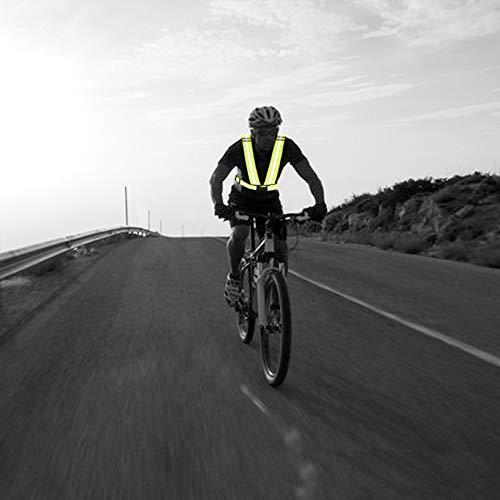Vest: (239, 134, 287, 197)
